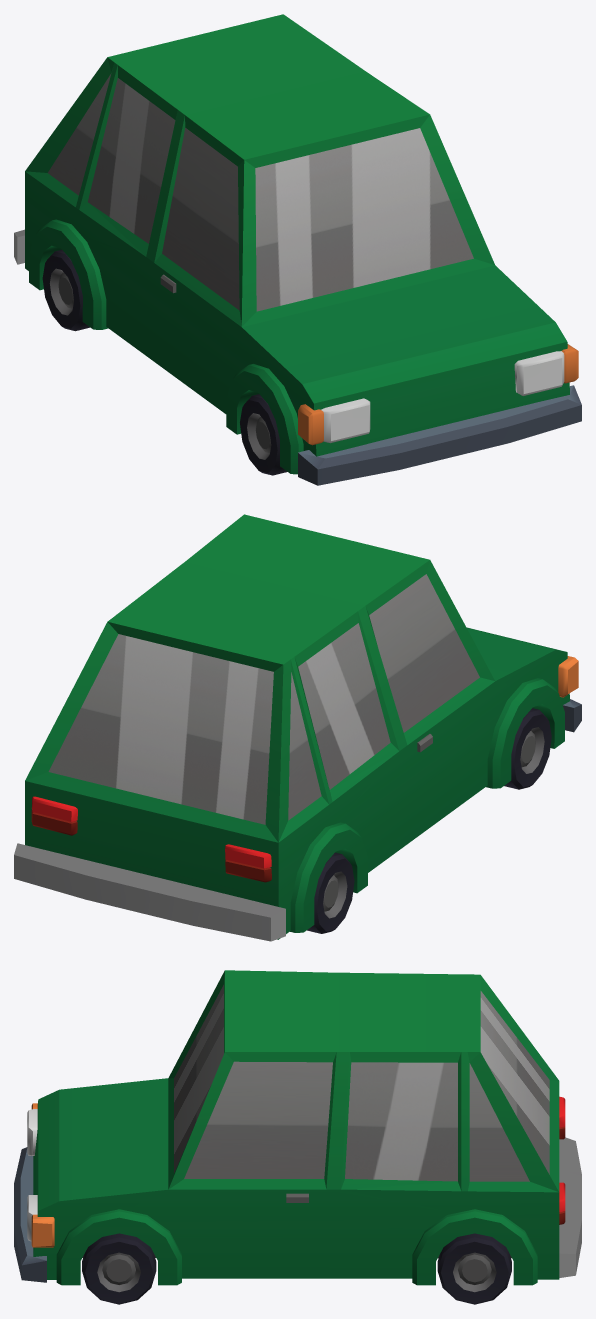
File: Car_1_19.fbx
3 views of the same model, one above another, from view 1: azimuth 30°, elevation 25°; view 2: azimuth 150°, elevation 25°; view 3: azimuth 270°, elevation 25° (orthographic). The views are drawn at different scales.
Parts seen in each view (by area): view 1: Car_1_19, Wheel_Br, Wheel_Fr; view 2: Car_1_19, Wheel_Fr, Wheel_Br; view 3: Car_1_19, Wheel_Fl, Wheel_Bl.
Boxes of the visible parts, left/top/right/bottom form: Car_1_19: left=14, top=14, right=581, bottom=485; Wheel_Br: left=42, top=249, right=89, bottom=331; Wheel_Fr: left=240, top=394, right=287, bottom=475; Car_1_19: left=14, top=514, right=581, bottom=941; Wheel_Fr: left=504, top=708, right=551, bottom=789; Wheel_Br: left=307, top=852, right=354, bottom=933; Car_1_19: left=14, top=970, right=581, bottom=1285; Wheel_Fl: left=82, top=1233, right=156, bottom=1304; Wheel_Bl: left=437, top=1233, right=511, bottom=1304.
Bounding box in the file's own units: 1.05 × 0.9433 × 2.07.
